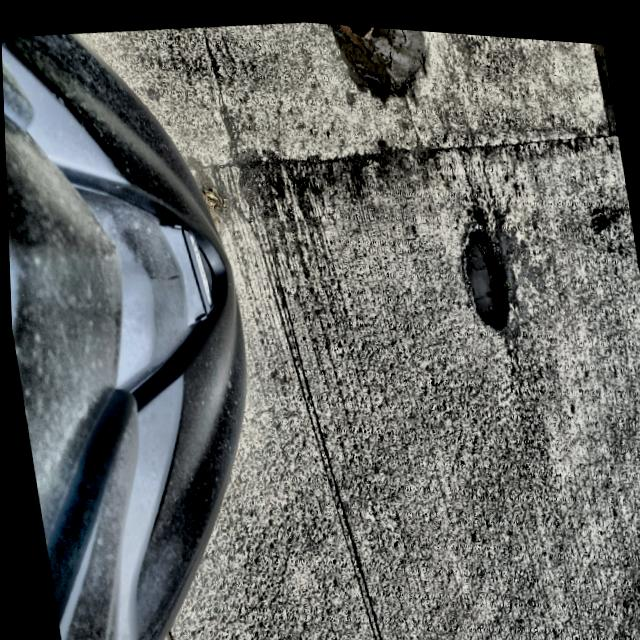pothole: (461, 211, 510, 330)
